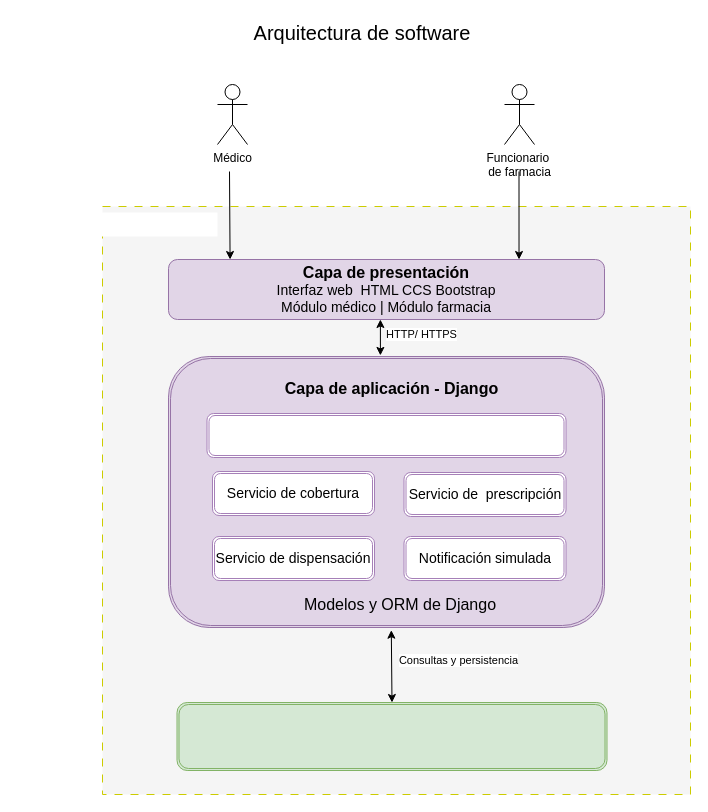
This 708x812 diagram has some shape labels left out. The centre of each missing label's shape, as x and y in pixels:
Autenticación y control de roles: point (386, 435)
Capa de persistencia PostgreASQL - Neon: point (391, 736)
Sistema FrickeÁgil - MVP: point (117, 224)
